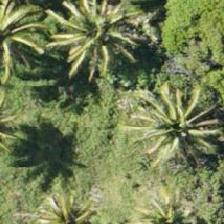coconut_tree: (126, 78, 216, 168), (47, 0, 137, 73), (122, 175, 212, 223)
